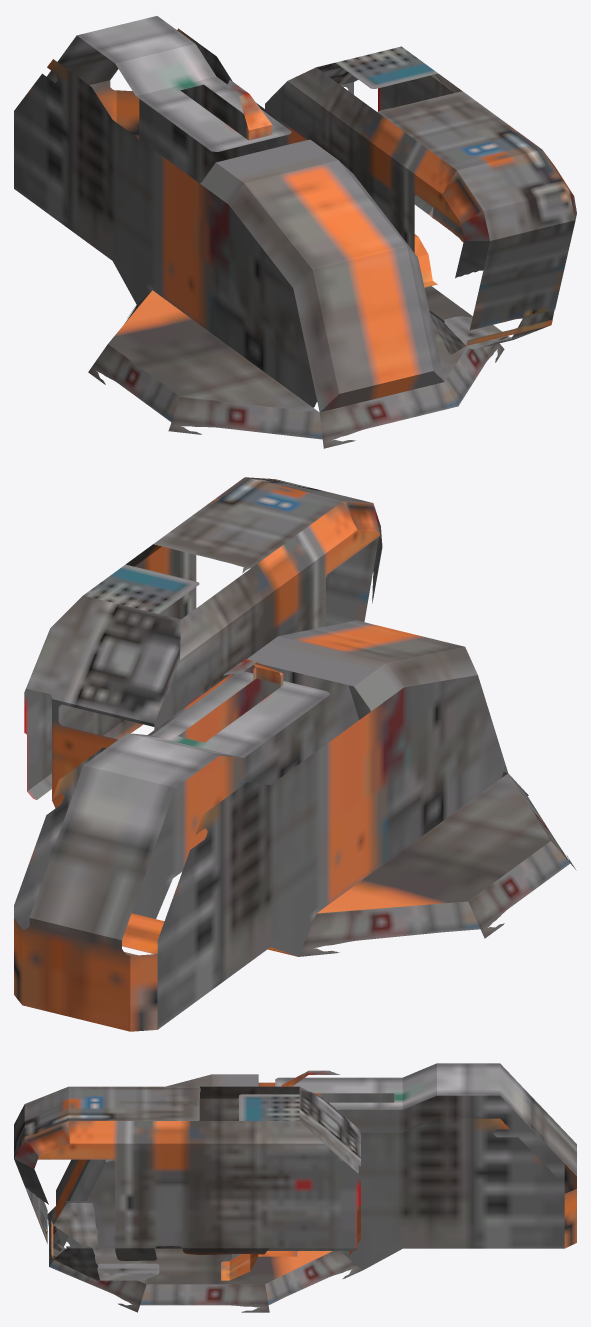
Rendered from LOD0-UVFlip.obj.
The picture shows the model from 3 angles, top to bottom: view 1: azimuth 30°, elevation 25°; view 2: azimuth 150°, elevation 25°; view 3: azimuth 270°, elevation 25°; orthographic projection. The views are drawn at different scales.
Visible parts, largest first — view 1: PulsarGunUV; view 2: PulsarGunUV; view 3: PulsarGunUV.
Boxes of the visible parts, x1,y1,x2,y2 form: PulsarGunUV: [14, 16, 576, 448]; PulsarGunUV: [14, 477, 576, 1031]; PulsarGunUV: [14, 1063, 576, 1312].
Size of the model in its own units: 7.45 by 4.77 by 12.8.
